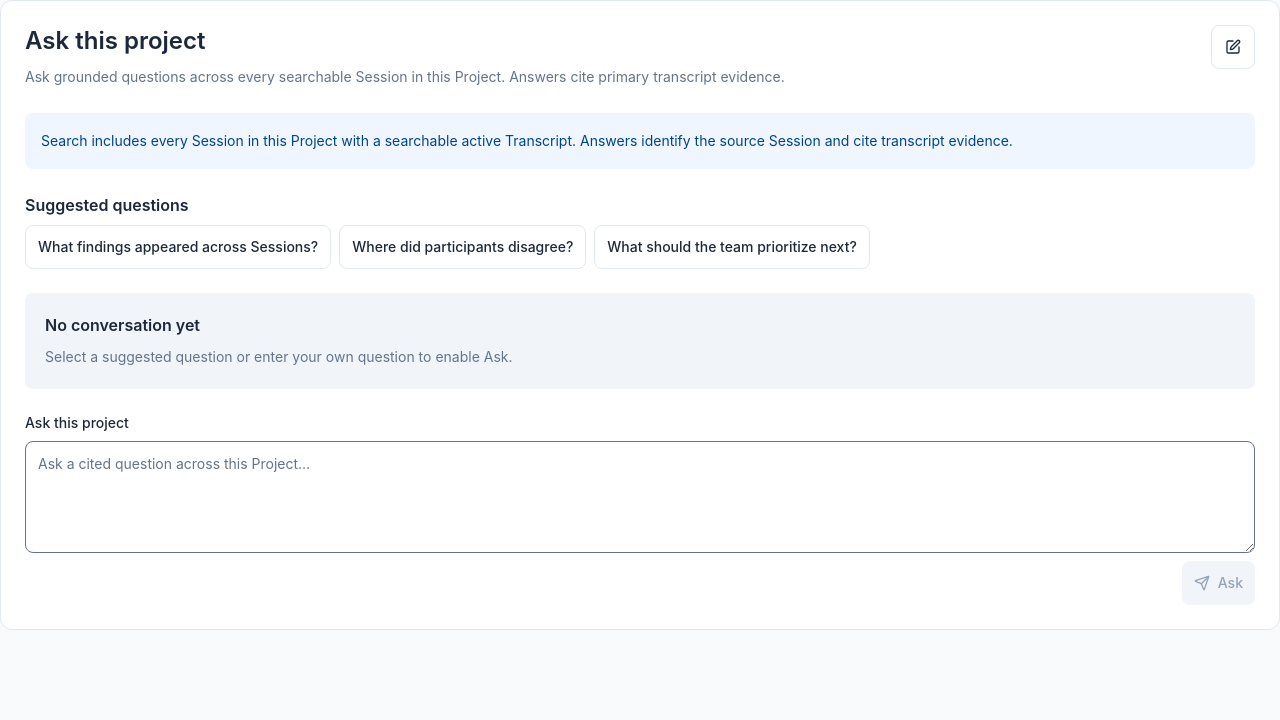
Test: Ask Project Storybook components › fills the composer from a suggested question without submitting
The width and height of the screenshot is (1280, 720).
Expected: the text "Select a suggested question or enter your own question to enable Ask." is shown, [45,348,512,365]
Expected: the button "Ask" is disabled, [1182,561,1255,605]
What coordinates should you click on to do the following:
click the button "What findings appeared across Sessions?"
I would click on:
 (178, 247)
Its box is [25,225,331,269].
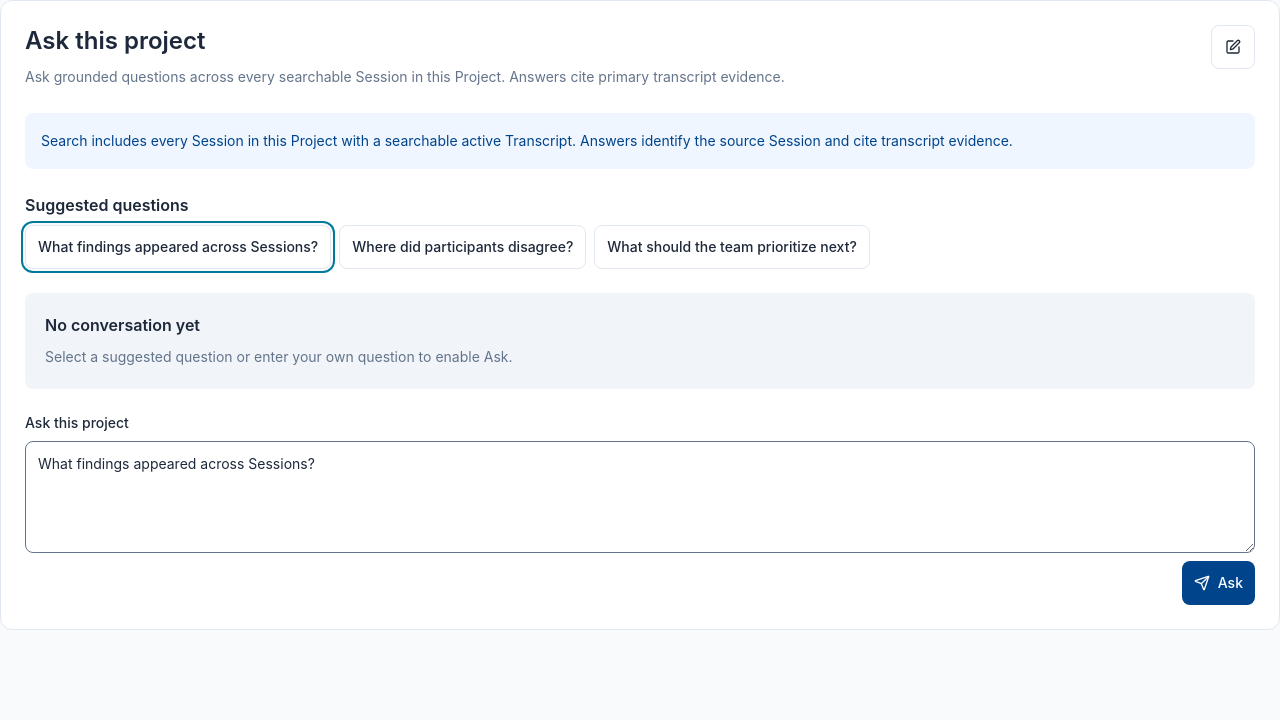
Expected: the text box labelled "Ask this project" holds "What findings appeared across Sessions?", [25,441,1255,553]
Expected: the button "Ask" is enabled, [1182,561,1255,605]
